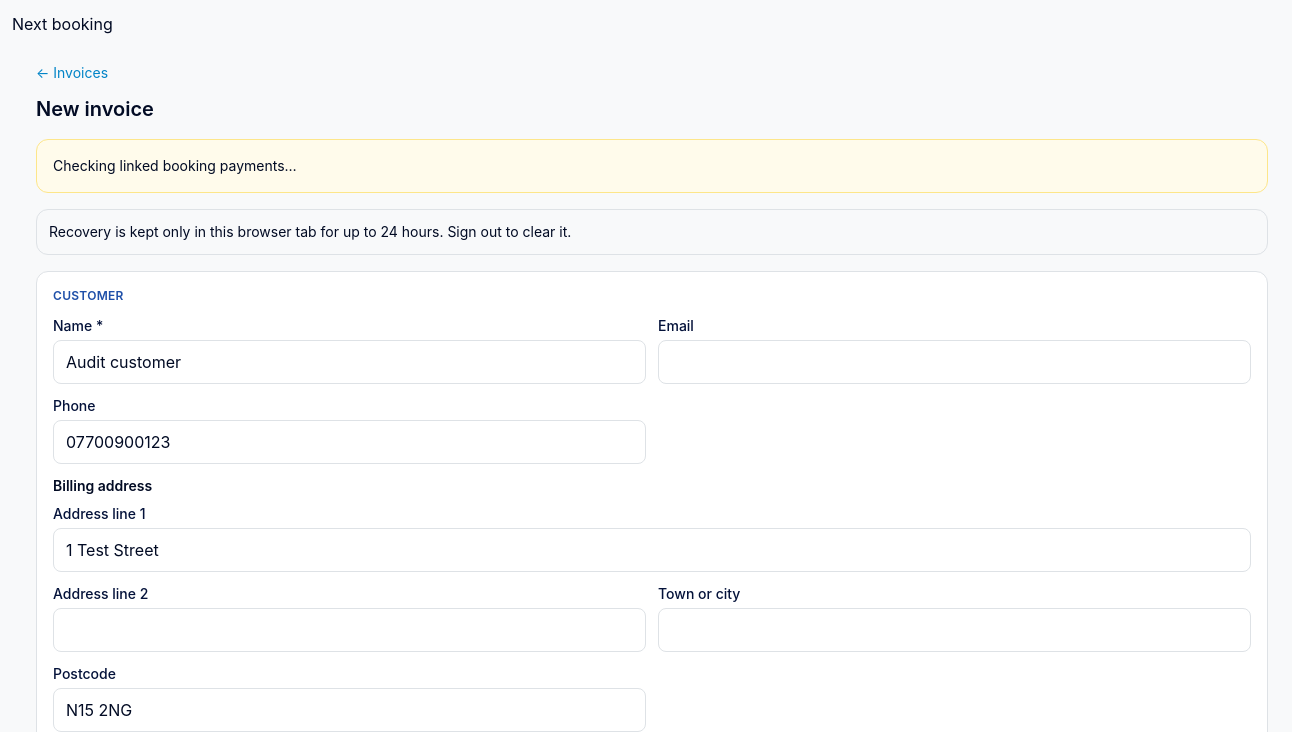
Test: InvoiceEditorPage › linked booking balance-payment warning › ignores a late payment-history response after switching to a different booking
The width and height of the screenshot is (1292, 732).
Expected: the field showing "Audit customer" is shown, [53,340,646,384]
Click the link "Next booking": (62, 24) [12,14,113,34]
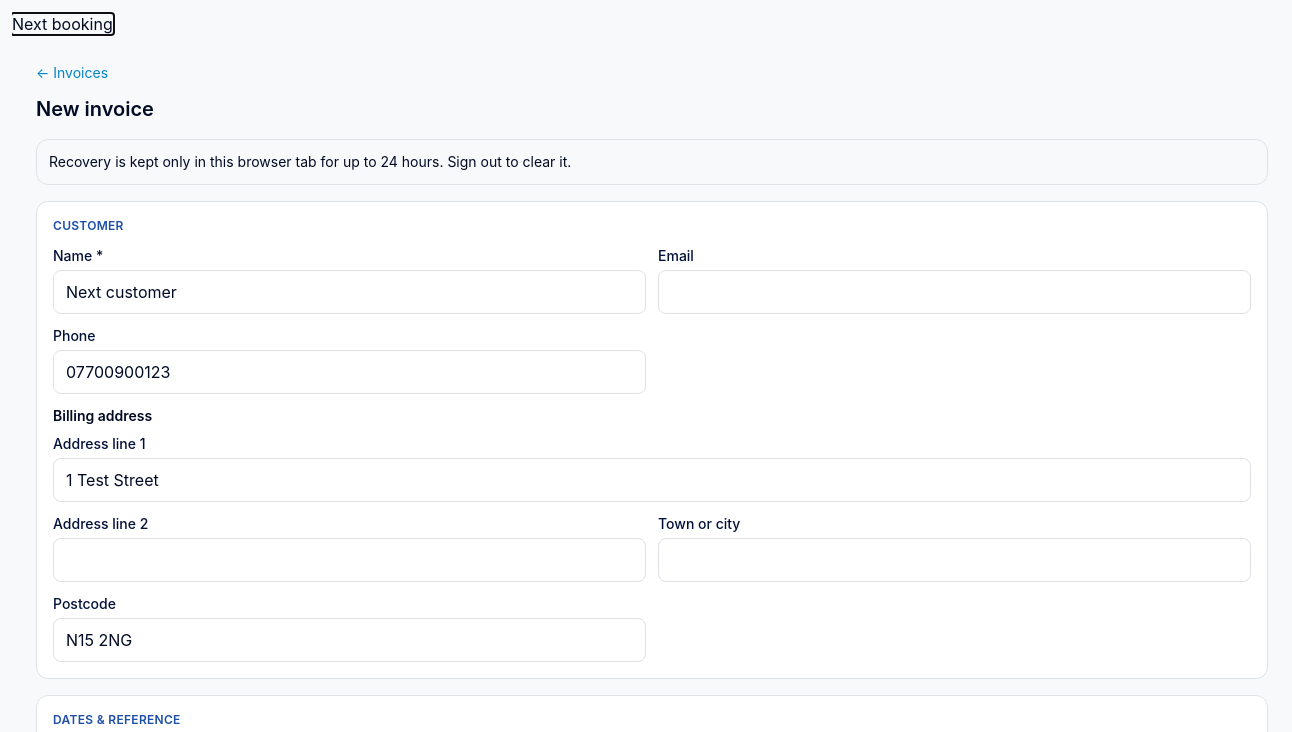
Now the field showing "Next customer" is shown, box [53,270,646,314]
